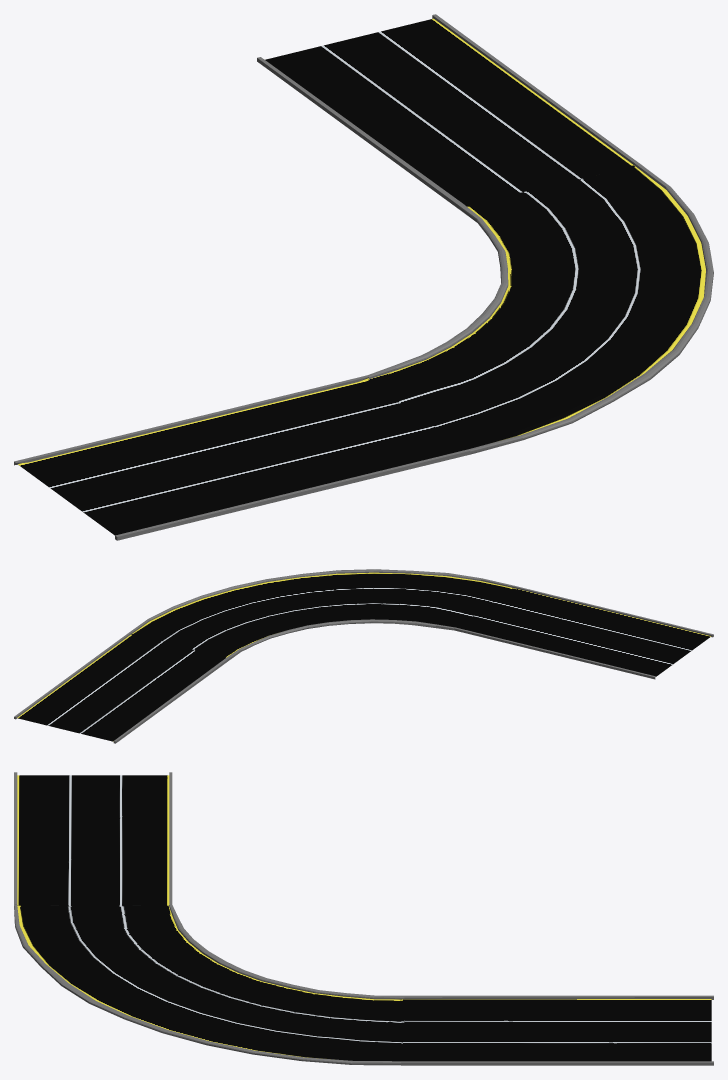
File: TrackCurveRight.fbx
3 views of the same model, one above another, from view 1: azimuth 30°, elevation 25°; view 2: azimuth 150°, elevation 25°; view 3: azimuth 270°, elevation 25° (orthographic). The views are drawn at different scales.
Visible parts, largest first — view 1: Torus; view 2: Torus; view 3: Torus.
Boxes of the visible parts, x1,y1,x2,y2 form: Torus: (14, 14, 713, 540); Torus: (14, 569, 713, 743); Torus: (14, 772, 713, 1065).
Bounding box in the file's own units: 18266 × 17914 × 103.
2 materials, 1 textured.
